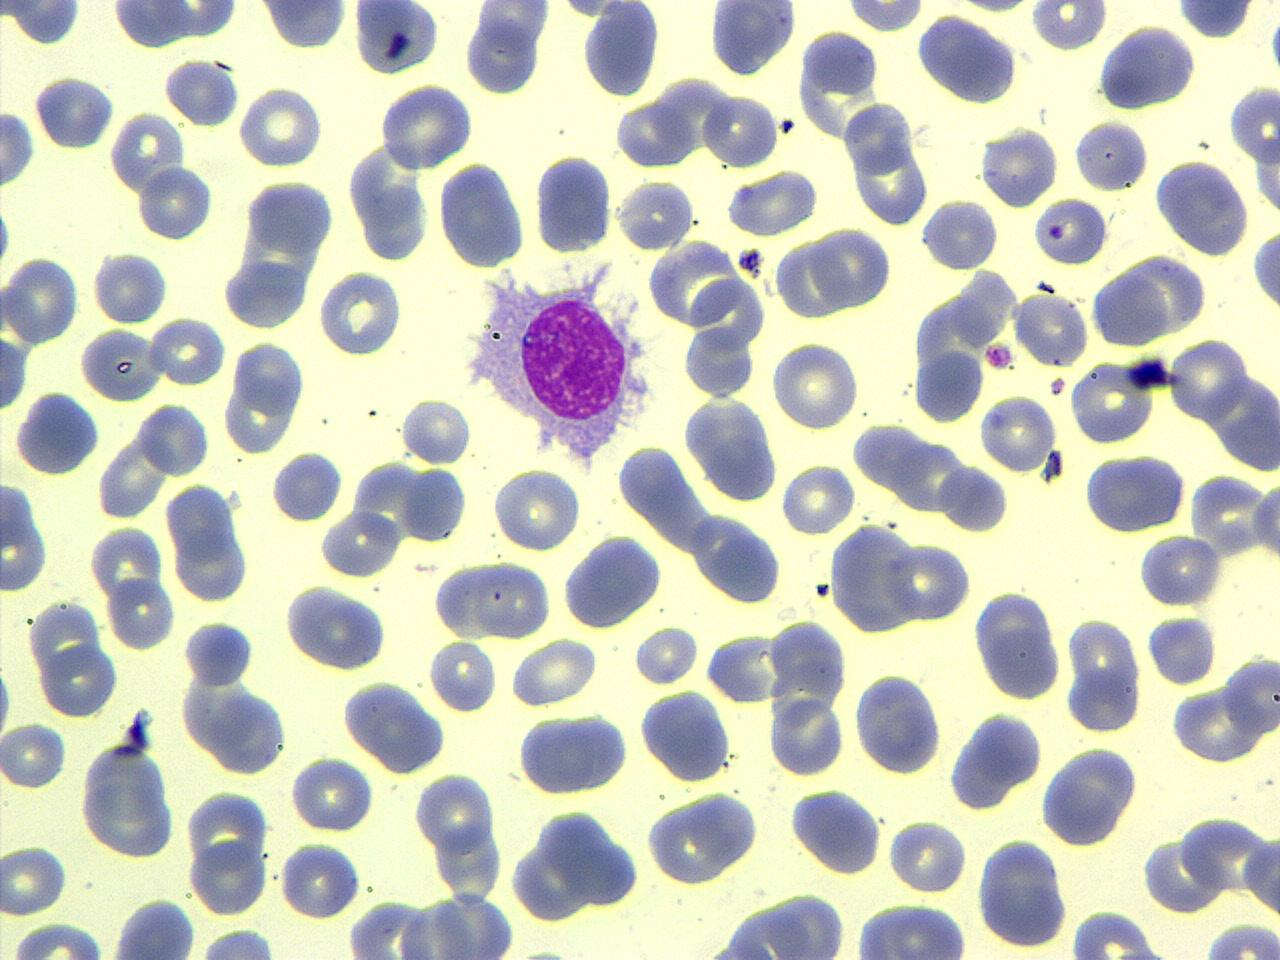Platelets: (351, 0, 441, 78), (1135, 534, 1223, 609), (1144, 612, 1215, 686), (1250, 221, 1280, 314), (1126, 352, 1170, 391), (514, 943, 572, 960), (0, 204, 15, 269), (1267, 17, 1280, 73)
RBC: (644, 788, 762, 888), (974, 833, 1073, 949), (682, 391, 778, 503), (826, 518, 918, 634), (513, 710, 631, 798), (853, 670, 947, 778), (79, 760, 179, 862), (437, 159, 528, 270), (914, 10, 1020, 105), (282, 581, 390, 672), (376, 80, 476, 171), (1081, 450, 1189, 534), (787, 784, 885, 876), (224, 336, 308, 442), (768, 339, 861, 432), (532, 151, 613, 255), (578, 3, 662, 100), (848, 896, 972, 960), (492, 465, 582, 552), (316, 266, 402, 357), (1070, 356, 1154, 448), (886, 537, 972, 623), (1169, 334, 1251, 424), (207, 688, 288, 777), (2, 253, 80, 347), (810, 224, 894, 311), (238, 84, 322, 170), (974, 122, 1056, 210), (722, 166, 822, 238), (278, 837, 364, 920), (349, 1, 442, 76), (852, 138, 930, 227), (1136, 532, 1226, 610), (472, 558, 554, 640), (289, 752, 373, 834), (979, 620, 1061, 702), (976, 392, 1058, 474), (1089, 270, 1173, 350), (80, 322, 161, 403), (700, 88, 781, 170), (415, 770, 495, 854), (463, 14, 542, 98), (32, 71, 116, 150), (768, 694, 846, 778), (886, 816, 969, 894), (221, 257, 310, 329), (188, 838, 270, 916), (509, 636, 599, 707), (174, 523, 251, 605), (920, 195, 1002, 271), (0, 472, 50, 596), (614, 176, 696, 252), (110, 110, 184, 194), (146, 312, 226, 389), (703, 626, 779, 706), (41, 642, 118, 720), (432, 559, 503, 642), (318, 508, 402, 579), (92, 247, 168, 324), (136, 165, 213, 242), (779, 460, 856, 536), (1014, 289, 1089, 368), (613, 100, 695, 170), (1064, 657, 1140, 734), (1073, 117, 1149, 194), (162, 55, 242, 128), (106, 572, 177, 652), (911, 344, 981, 427), (1064, 908, 1174, 959), (270, 450, 344, 525), (428, 636, 498, 716), (1145, 611, 1217, 687), (139, 400, 209, 478), (399, 464, 467, 544), (398, 394, 472, 467), (1031, 196, 1107, 266), (180, 617, 255, 688), (1, 842, 71, 916), (0, 716, 68, 792), (255, 1, 350, 52), (631, 624, 699, 688), (0, 0, 87, 48), (1029, 0, 1109, 52), (1229, 82, 1279, 162), (8, 921, 109, 960), (1243, 826, 1279, 920), (196, 924, 284, 960), (1199, 922, 1280, 960), (0, 105, 36, 190), (840, 0, 928, 34), (1250, 470, 1280, 569), (1250, 219, 1280, 318), (0, 330, 29, 416), (1253, 126, 1280, 216)
WBC: (458, 254, 658, 470), (78, 736, 178, 860), (530, 806, 646, 912), (643, 788, 764, 886), (681, 895, 861, 960), (1039, 740, 1143, 850), (338, 674, 451, 772), (944, 706, 1046, 814), (826, 520, 920, 634), (514, 710, 632, 800), (1152, 154, 1254, 257), (560, 532, 666, 631), (914, 9, 1022, 106), (852, 668, 946, 777), (438, 156, 528, 272), (1095, 21, 1199, 115), (788, 782, 884, 880), (638, 686, 734, 785), (284, 582, 388, 669), (1080, 451, 1188, 532), (397, 890, 520, 960), (534, 150, 612, 259), (12, 387, 103, 478), (580, 0, 660, 100), (848, 899, 974, 960), (208, 689, 290, 777), (348, 3, 443, 78), (706, 2, 798, 79), (1090, 269, 1172, 350), (0, 477, 51, 596), (270, 446, 345, 525), (912, 344, 986, 425), (106, 895, 198, 959), (1169, 0, 1261, 38), (191, 925, 285, 959), (1251, 221, 1280, 312)
